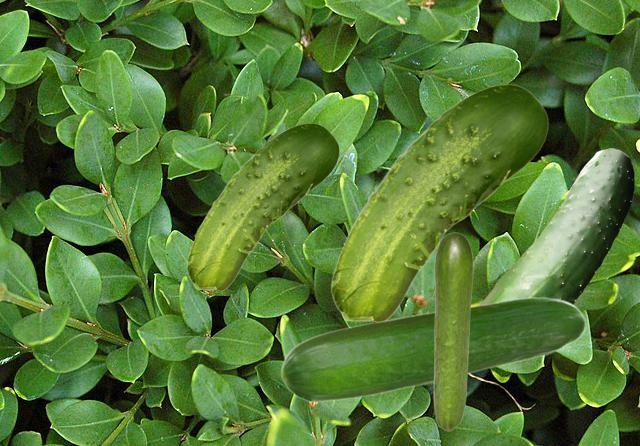cucumber: (330, 84, 547, 322), (280, 296, 585, 402), (186, 123, 338, 290), (480, 148, 633, 303), (433, 232, 472, 430)
